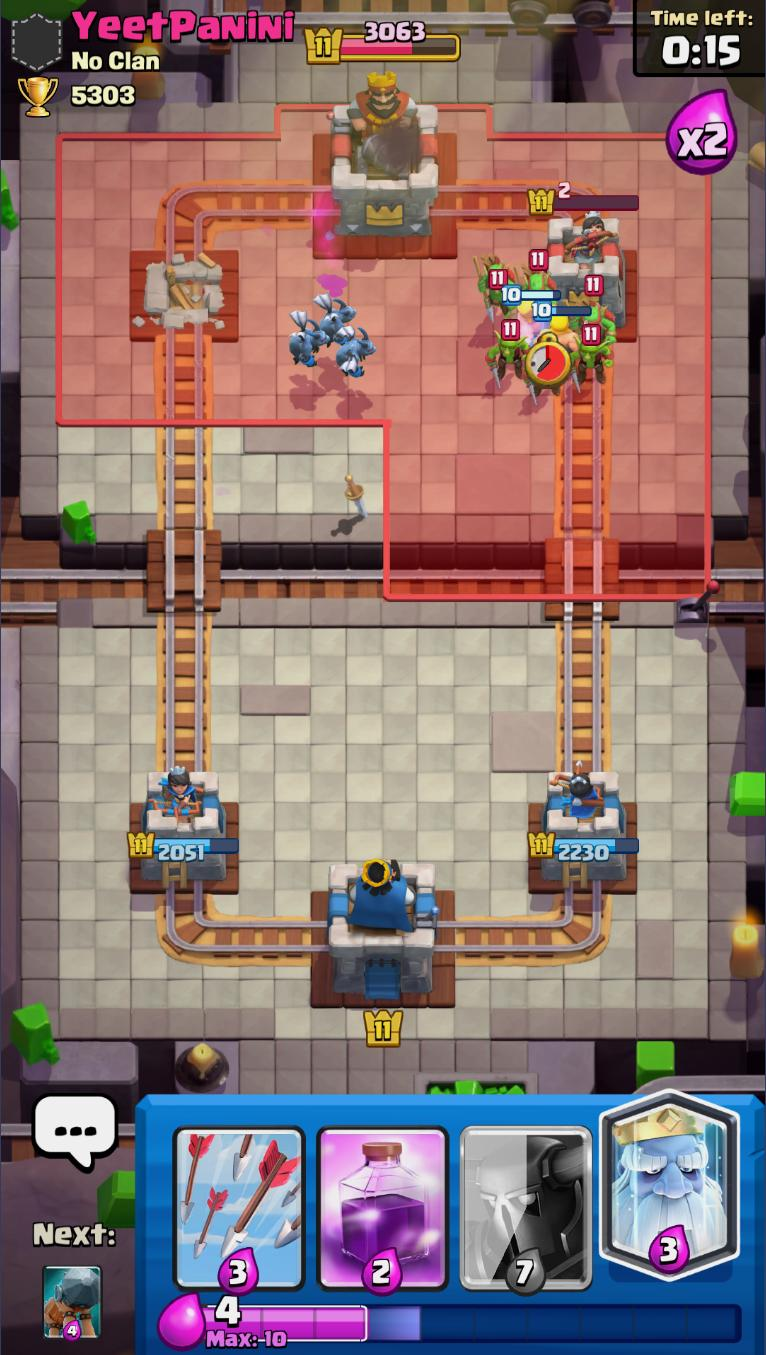ArrowDeck: (167, 1095, 310, 1296)
BattleRamNext: (41, 1264, 103, 1343)
Elixir: (203, 1295, 744, 1350)
EnemyTower: (533, 214, 631, 331)
EnemyTowerBrocken: (125, 252, 236, 350)
Goblin: (487, 320, 529, 386), (572, 327, 614, 393)
KingTower: (326, 80, 443, 243)
KingTowerHP: (304, 20, 461, 65)
MyBarbarian: (531, 300, 594, 354), (500, 284, 560, 338)
MyKingTower: (326, 858, 440, 1000)
MyMinion: (287, 309, 332, 368), (313, 290, 358, 346), (333, 326, 377, 379)
MyPrincessTower: (126, 768, 240, 886), (528, 770, 640, 886)
MyPrincessTowerHP: (126, 830, 239, 862), (527, 832, 640, 862)
PekkaDeck: (456, 1094, 598, 1295)
PrincessTower: (562, 212, 617, 266)
RageDeck: (311, 1095, 455, 1296)
RoyaleGhostDeck: (598, 1094, 742, 1296)
SpearGoblin: (474, 253, 516, 319), (569, 275, 614, 334), (514, 249, 557, 291)
TowerPrincessHP: (527, 182, 640, 216)
